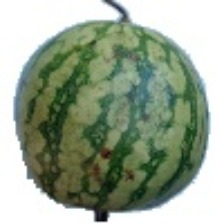watermelon: (41, 30, 183, 206)
